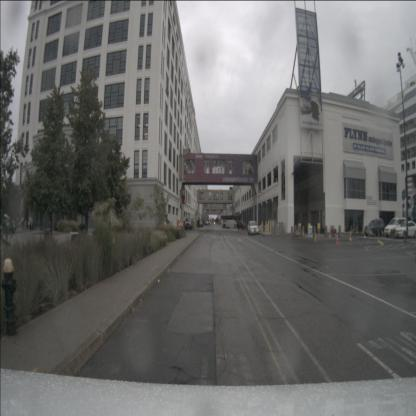cone: (314, 233, 317, 242), (302, 230, 305, 238), (336, 234, 338, 245), (349, 231, 351, 240), (329, 232, 331, 239)
